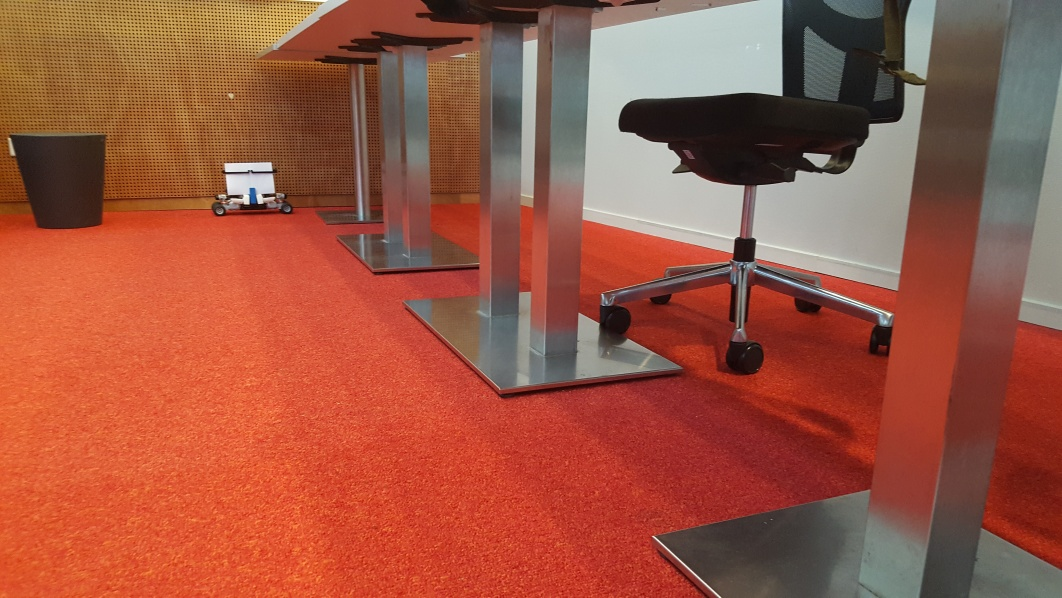car: (211, 160, 295, 216)
